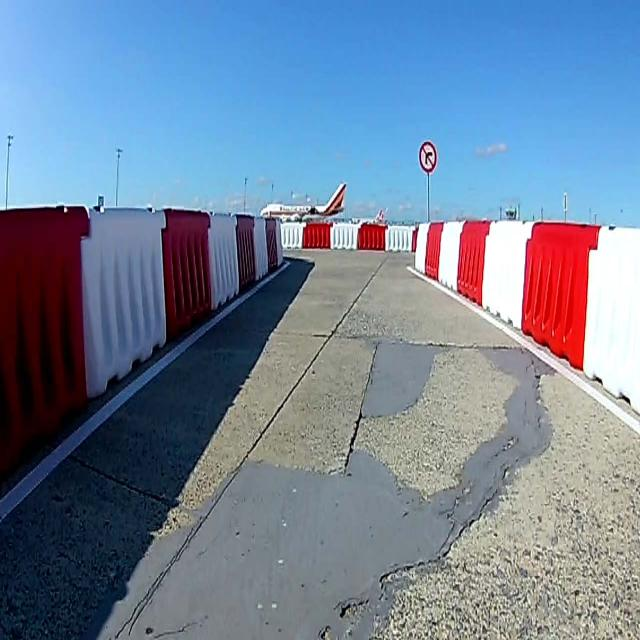sagadonulmez: (418, 142, 438, 172)
